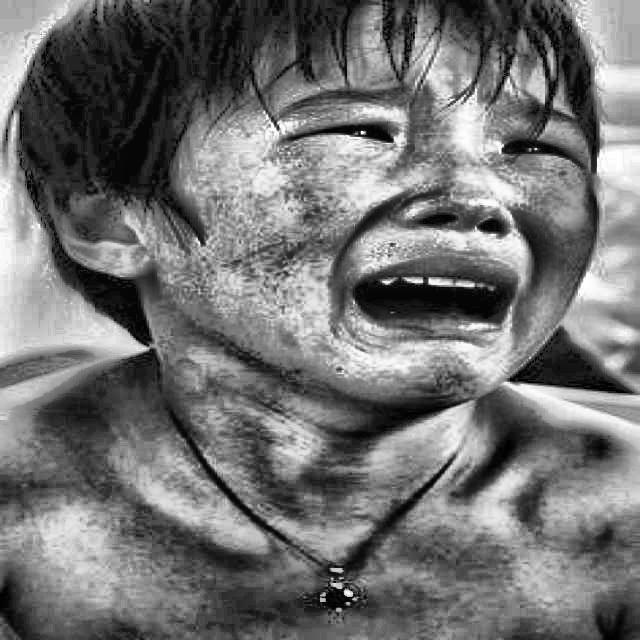sad: (66, 22, 616, 427)
